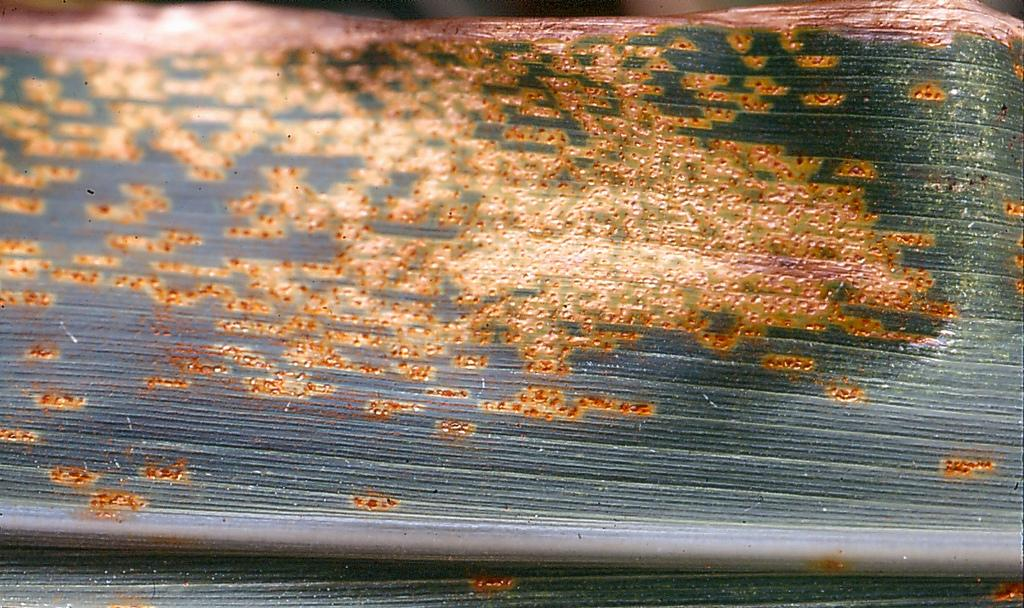Corn rust leaf: (2, 2, 1024, 606)
